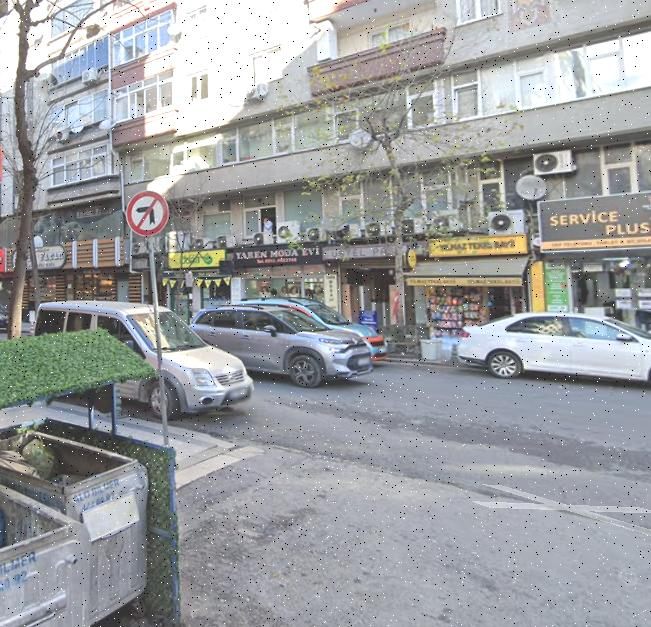leftturnsareforbidden: (129, 192, 170, 234)
